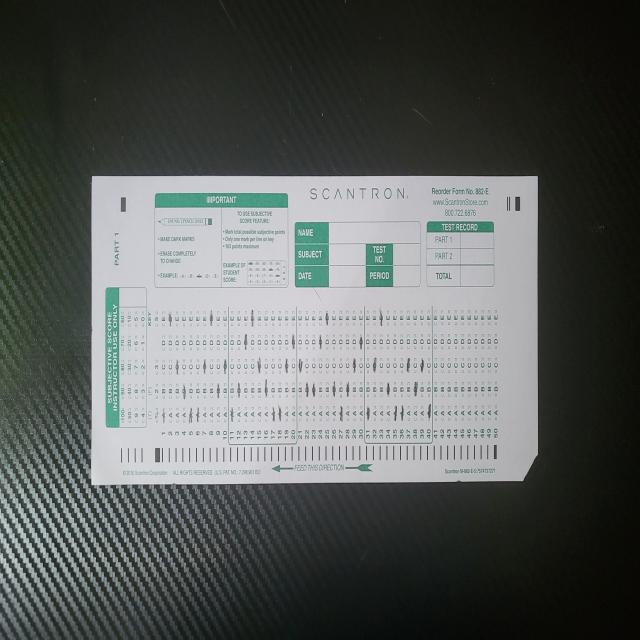scantron: (91, 175, 538, 485)
